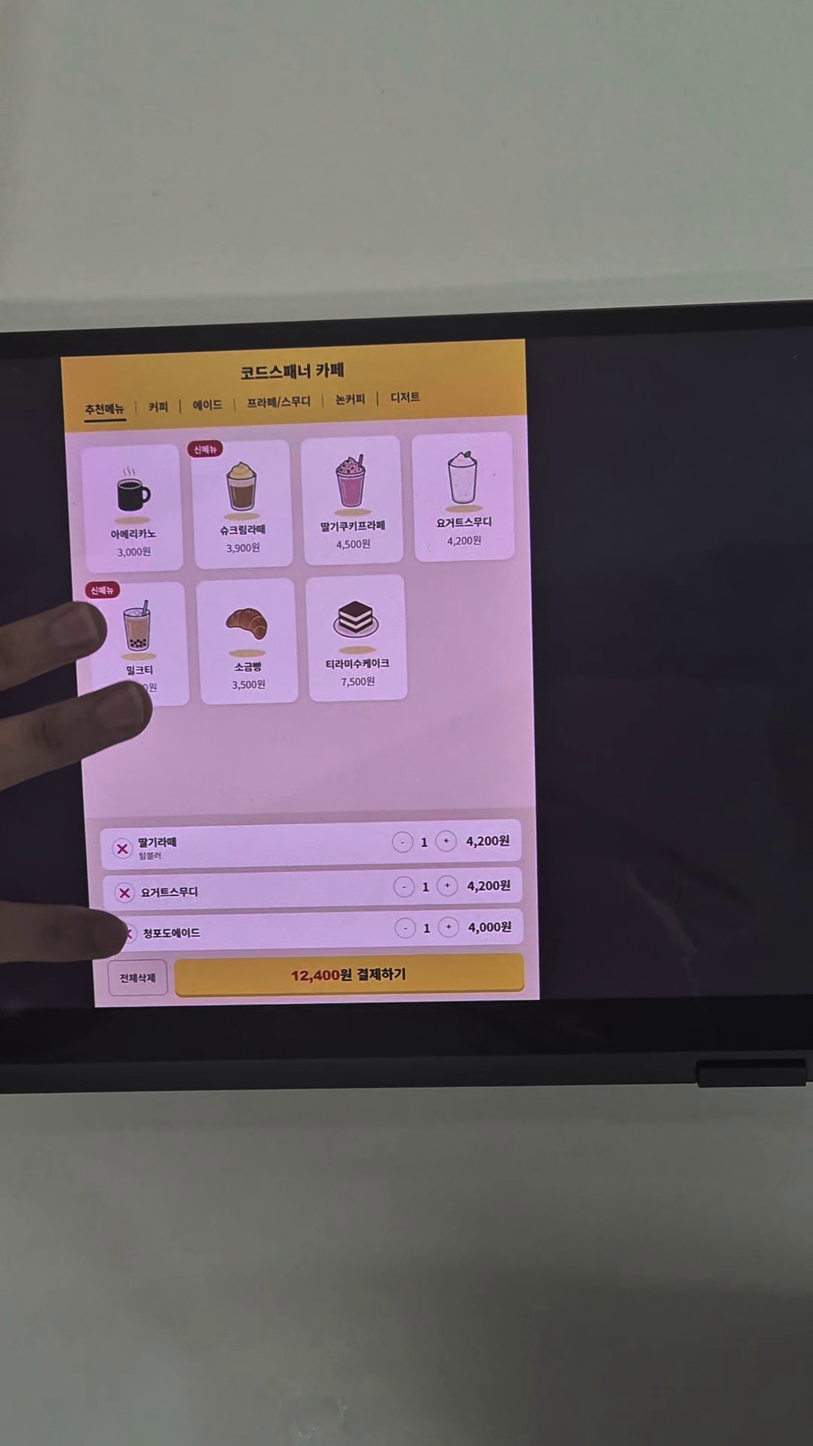action_button: (174, 953, 524, 997), (107, 959, 168, 996)
cart_item: (100, 819, 522, 870), (102, 867, 522, 912), (106, 908, 524, 953)
category_tab: (246, 394, 312, 409), (84, 402, 125, 417), (192, 398, 223, 412), (335, 393, 367, 406), (390, 391, 421, 404), (148, 400, 169, 414)
menu_back: (190, 440, 294, 570), (300, 436, 404, 565), (412, 432, 515, 562), (81, 444, 184, 573), (196, 578, 299, 705), (88, 581, 190, 709), (306, 574, 408, 702)
menu_name: (319, 519, 386, 534), (324, 658, 391, 670), (436, 516, 493, 529), (219, 523, 267, 538), (110, 528, 157, 541), (124, 664, 154, 677), (233, 661, 263, 674)
menu_price: (336, 538, 371, 552), (446, 534, 482, 547), (230, 678, 266, 691), (339, 676, 377, 688), (116, 546, 152, 558), (225, 542, 260, 554)
